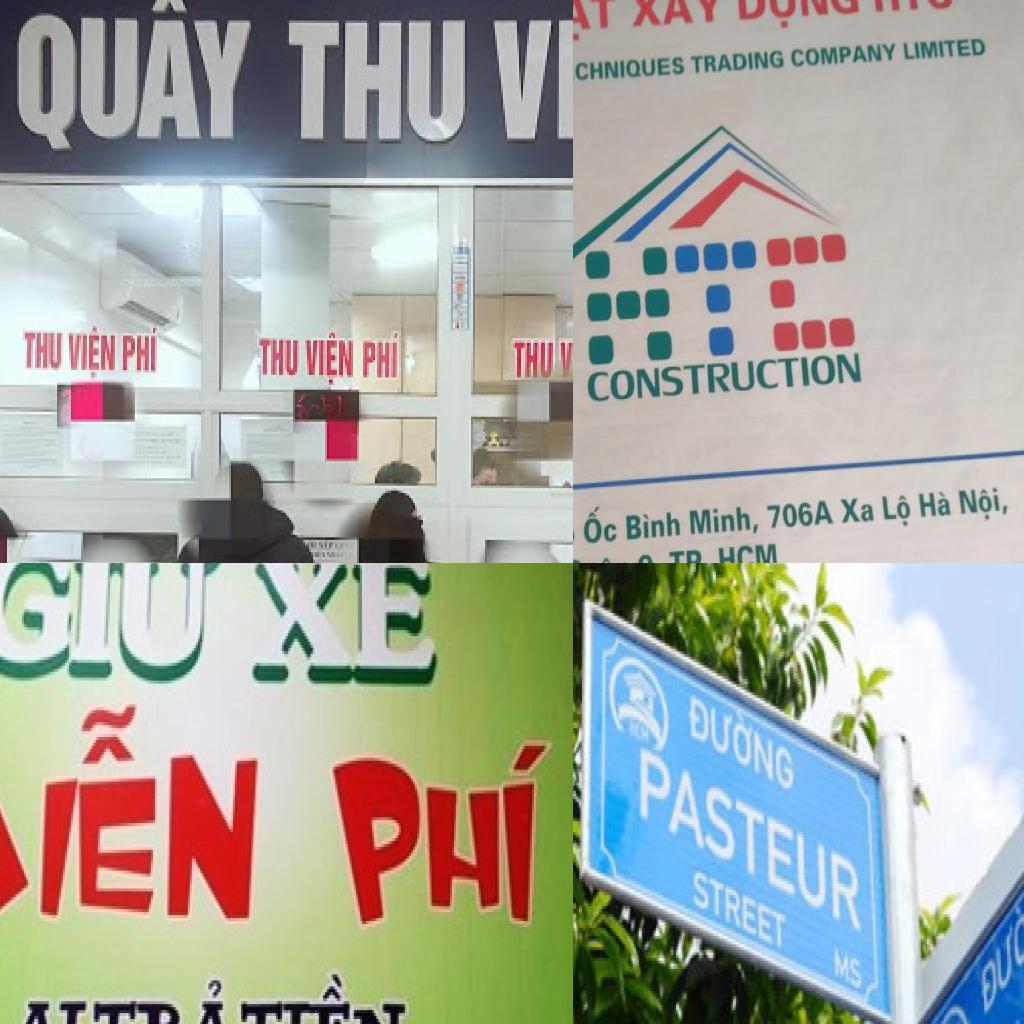text: (0, 698, 270, 932), (325, 737, 557, 936), (633, 747, 867, 942), (17, 0, 263, 158), (0, 563, 232, 692), (249, 563, 441, 695), (287, 20, 469, 146), (587, 351, 865, 406), (686, 682, 798, 804), (493, 0, 573, 170), (237, 968, 411, 1024), (973, 842, 1024, 1024), (690, 868, 788, 960), (87, 974, 236, 1024), (736, 0, 865, 33), (573, 55, 685, 85), (789, 40, 899, 70), (303, 331, 357, 387), (67, 326, 119, 384), (689, 500, 760, 539), (630, 0, 728, 28), (767, 496, 839, 531), (691, 48, 785, 74), (669, 542, 780, 563), (832, 939, 868, 1002), (960, 484, 1011, 528), (5, 998, 89, 1024), (903, 35, 989, 60), (627, 506, 683, 544), (121, 323, 161, 375), (255, 335, 301, 380), (573, 0, 620, 44), (363, 333, 403, 382), (513, 338, 557, 382), (23, 333, 65, 373), (582, 506, 620, 547), (880, 491, 917, 532), (872, 0, 957, 16), (841, 494, 877, 530), (919, 491, 955, 520), (628, 714, 653, 753), (573, 552, 634, 563), (559, 340, 573, 382), (632, 552, 666, 563)
